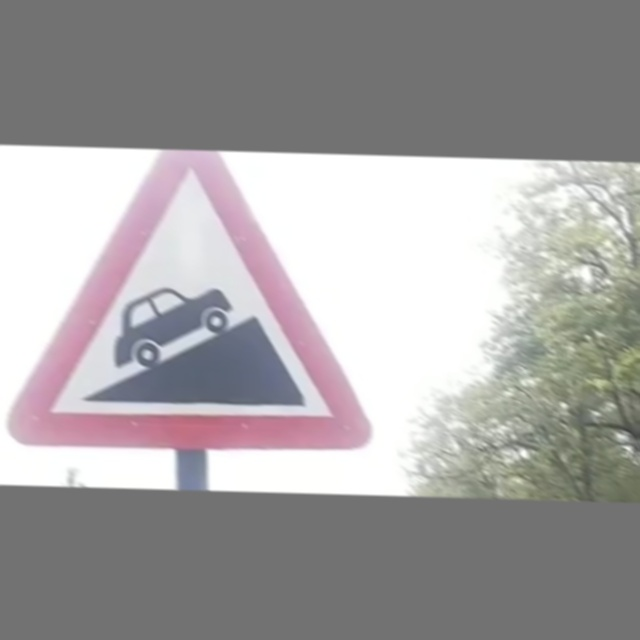Steep_Ascent: (24, 165, 371, 450)
